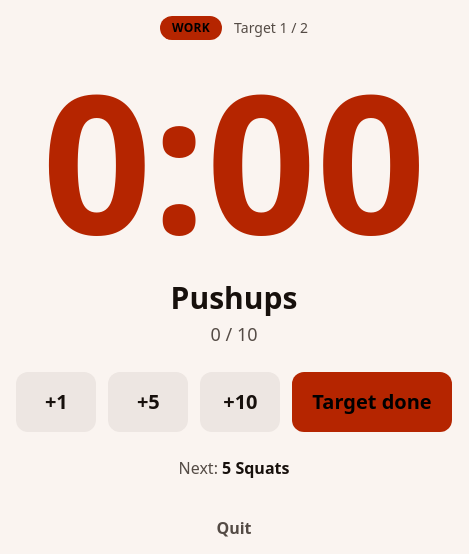
Test: RepPlayer › advances on target completion without carrying overflow
What coordinates should you click on to do the following:
click the button "+5"
I would click on:
 (148, 402)
Its box is [108,372,188,432].
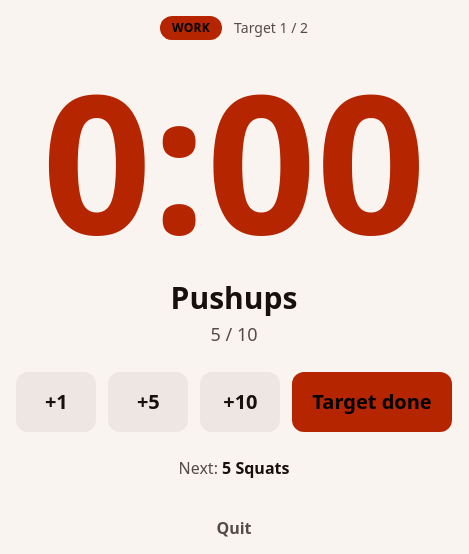
What coordinates should you click on to do the following:
click the button "+10"
I would click on:
 (240, 402)
Its box is [200,372,280,432].
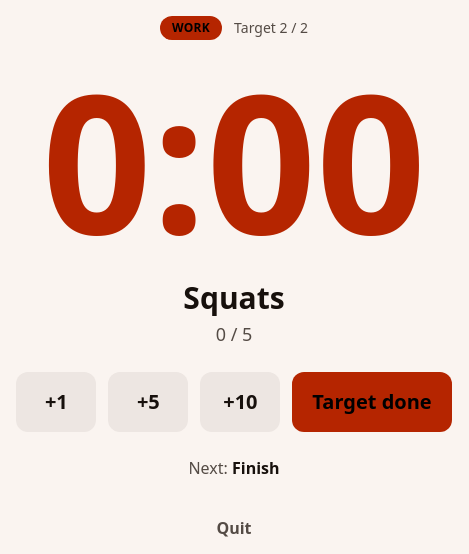
Now the text "Target 2 / 2" is shown, box [234,18,308,38]
Now the text "0 / 5" is shown, box [216,322,252,346]
